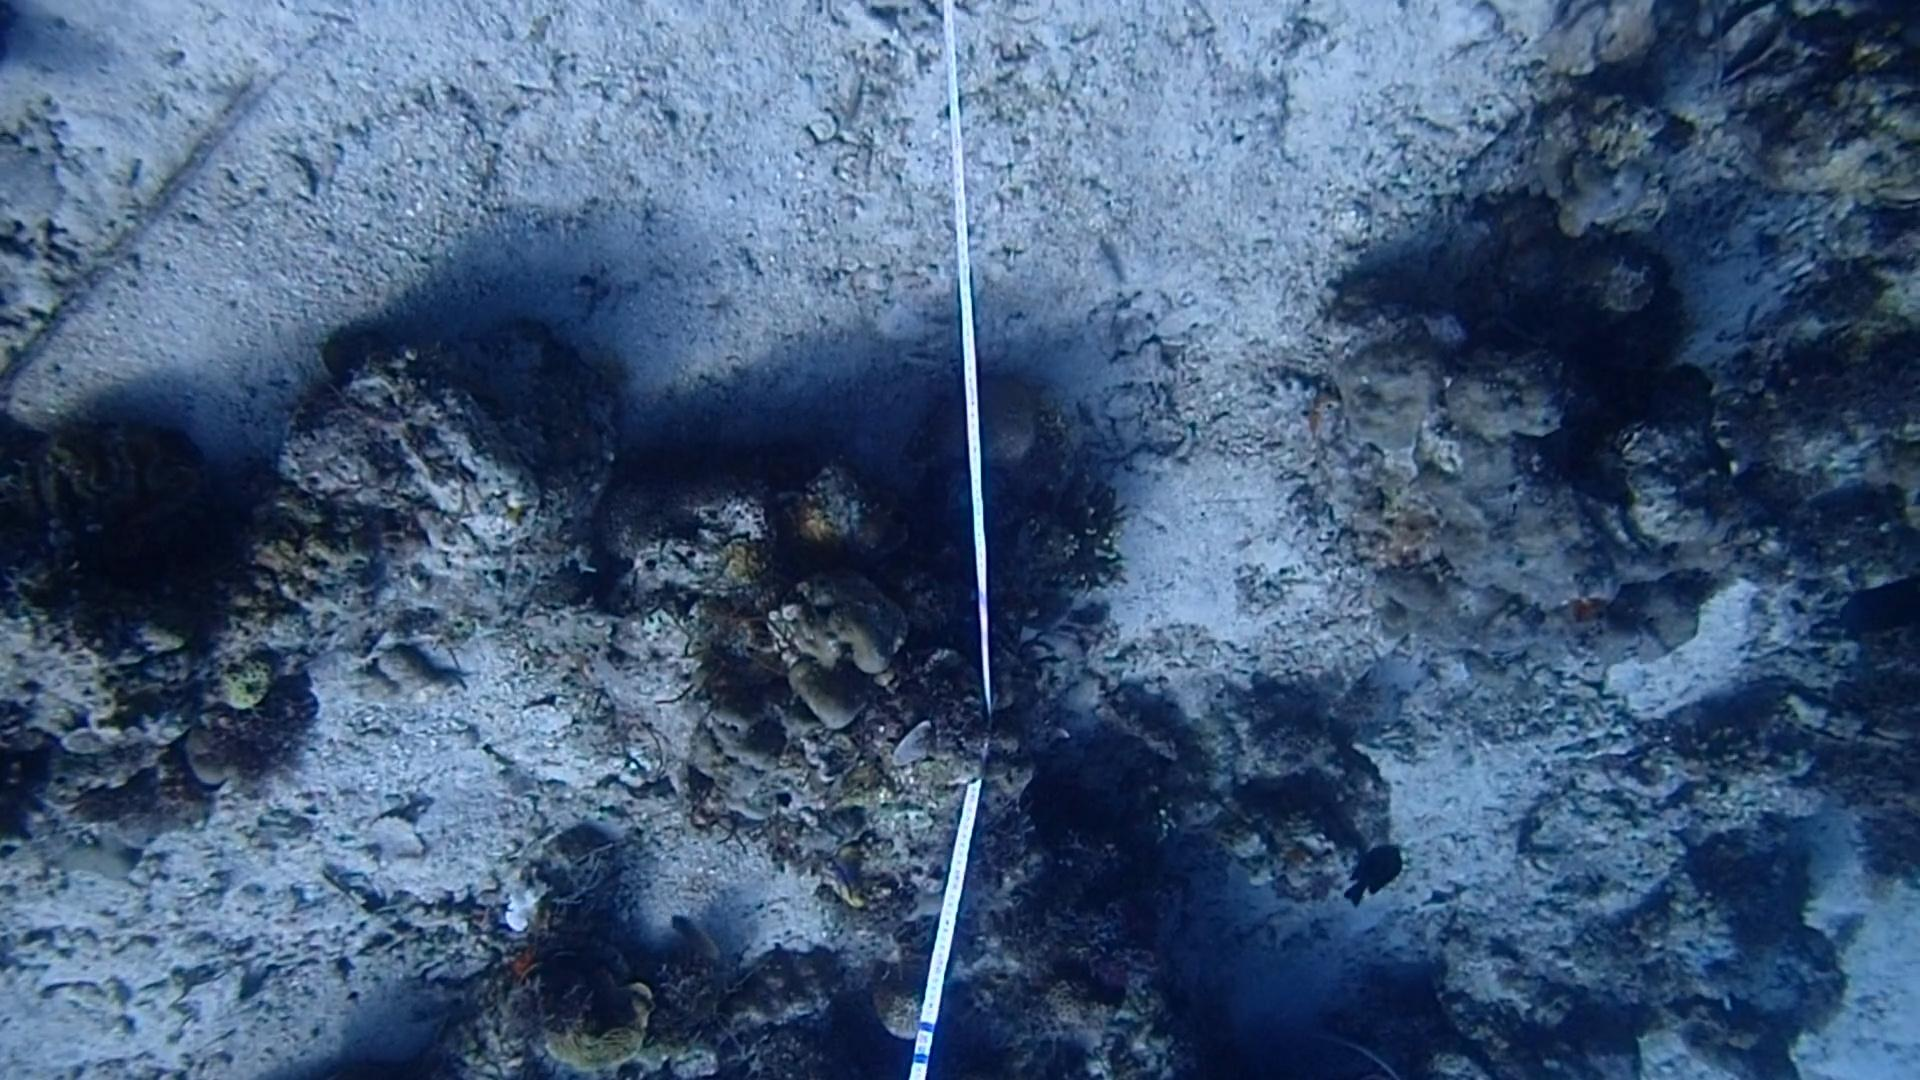Dark Fish: (1834, 570, 1920, 647), (1348, 836, 1410, 923)
Light Fish: (644, 905, 742, 967)
